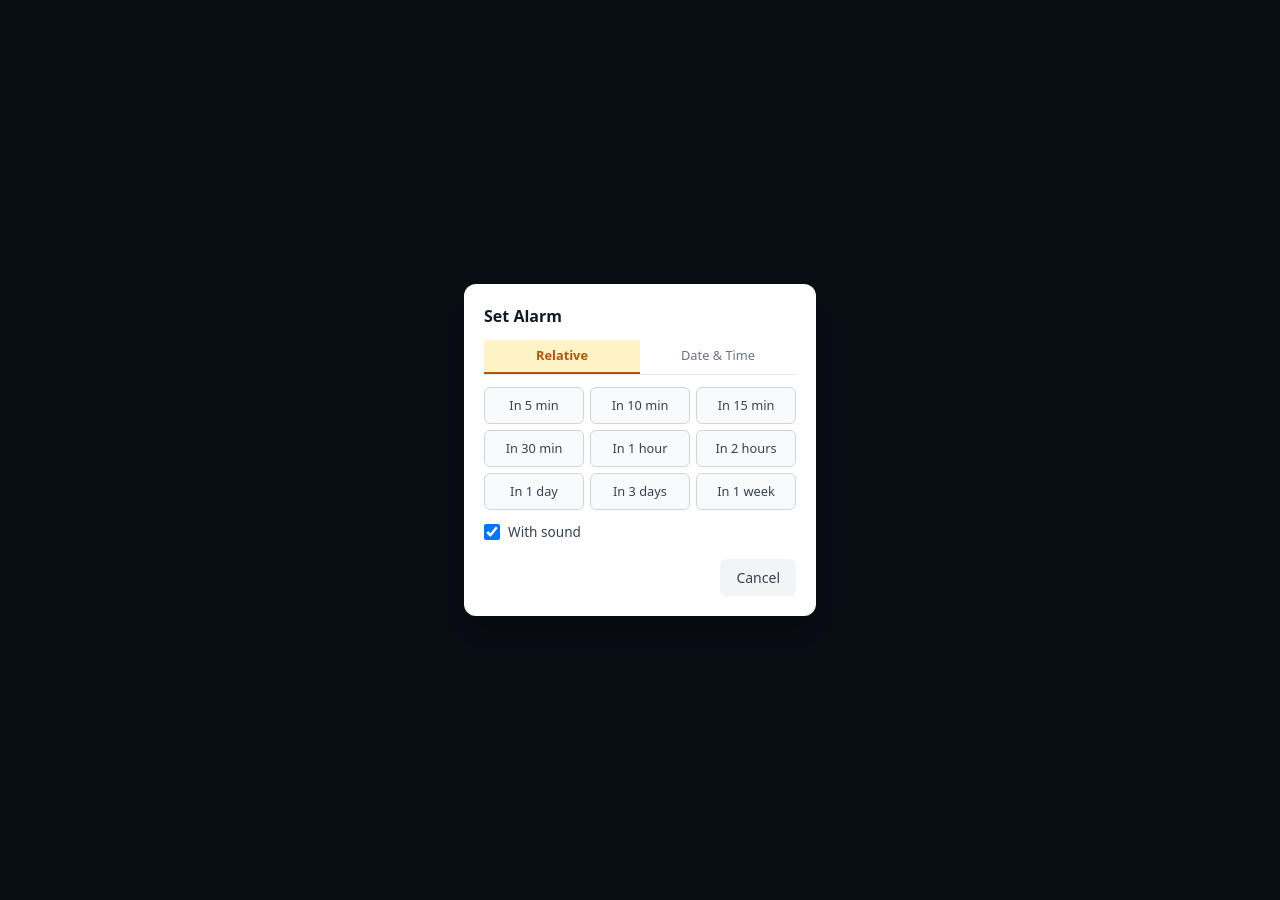
Test case: AlarmDialog language › passes the English locale to the Windows/WebView datetime input
This screenshot has width=1280, height=900.
Click the button "Date & Time". click: (718, 357)
box: [640, 340, 796, 374]
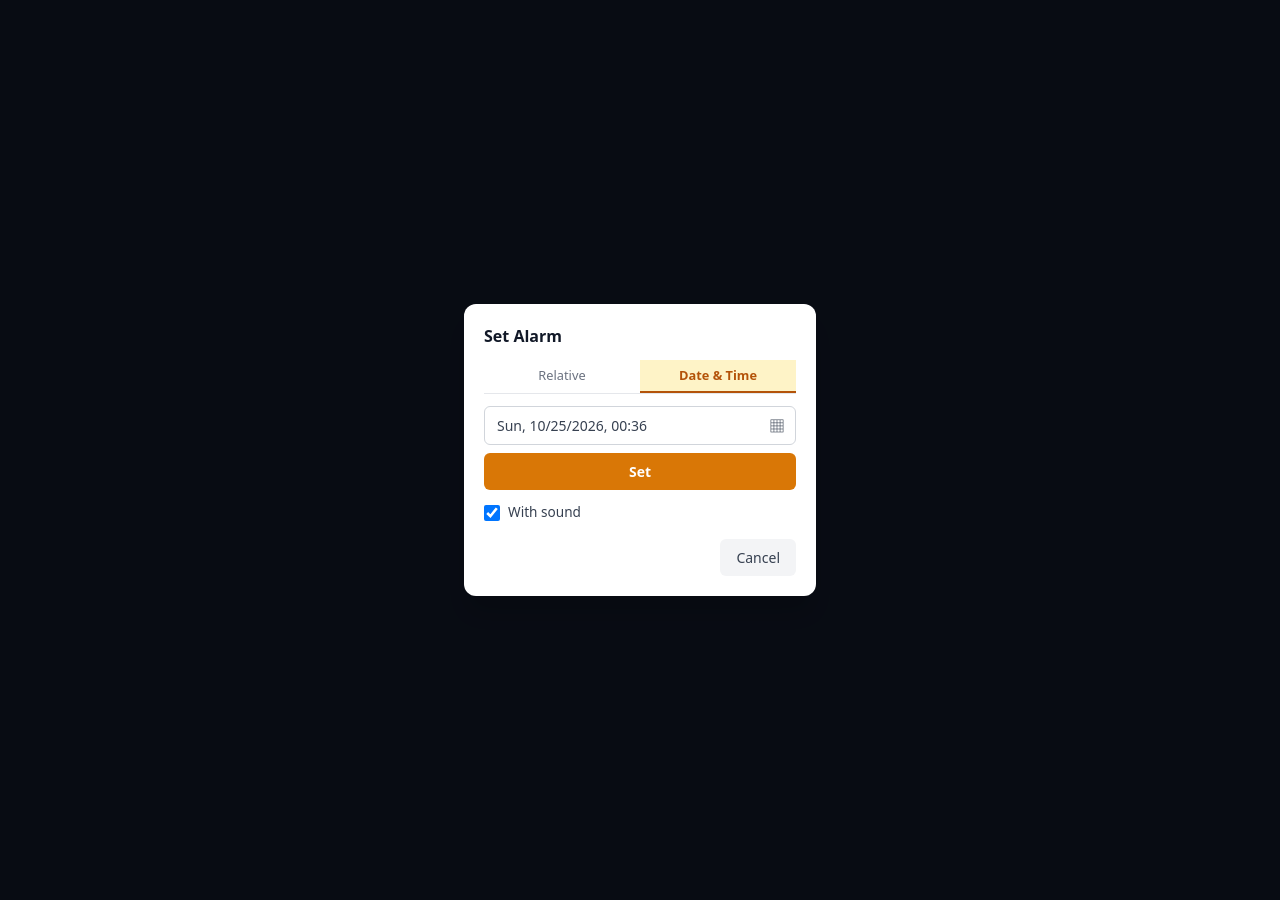
Now the element showing "Sun, 10/25/2026, 00:36 ▦" is shown, box [484, 406, 796, 445]
